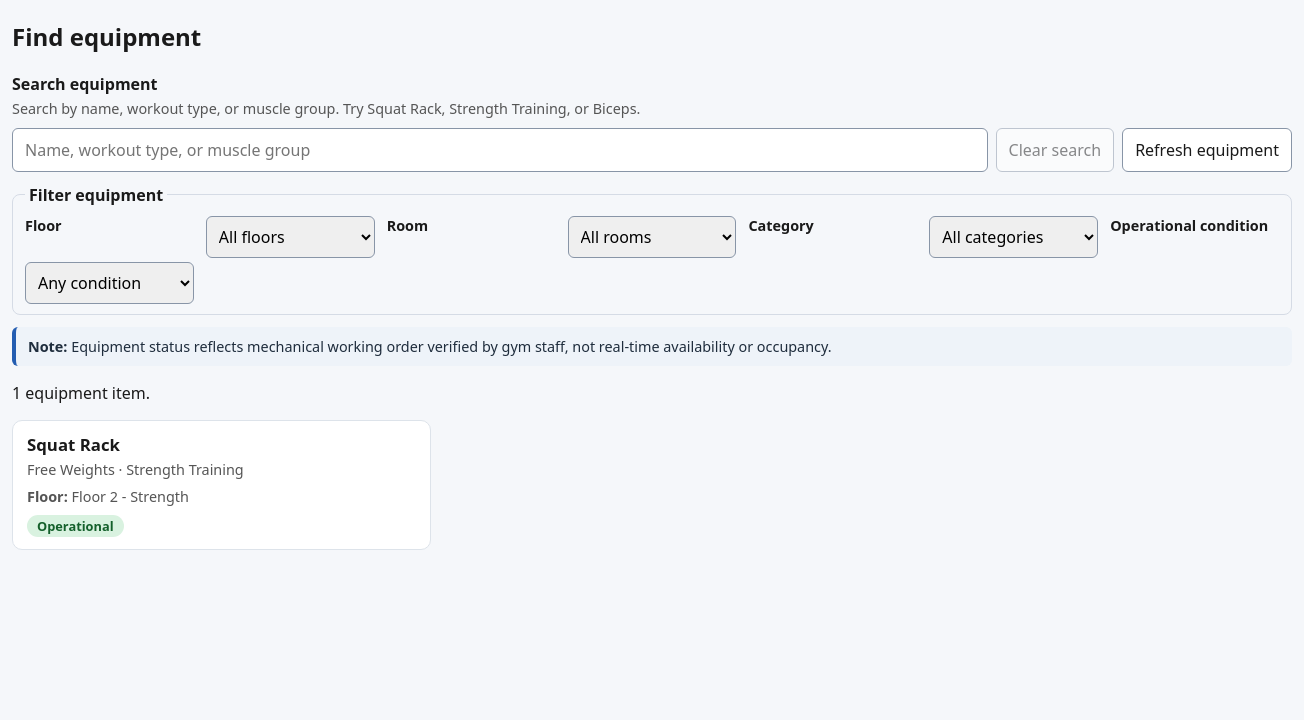
Scenario: US3: an empty filtered result explains how to recover
Check: the heading "Squat Rack" is shown, box [27,433,120,456]
Step 1. Select "Out of Order" in the dropdown labelled "Operational condition" → (109, 283), box [25,262,194,304]
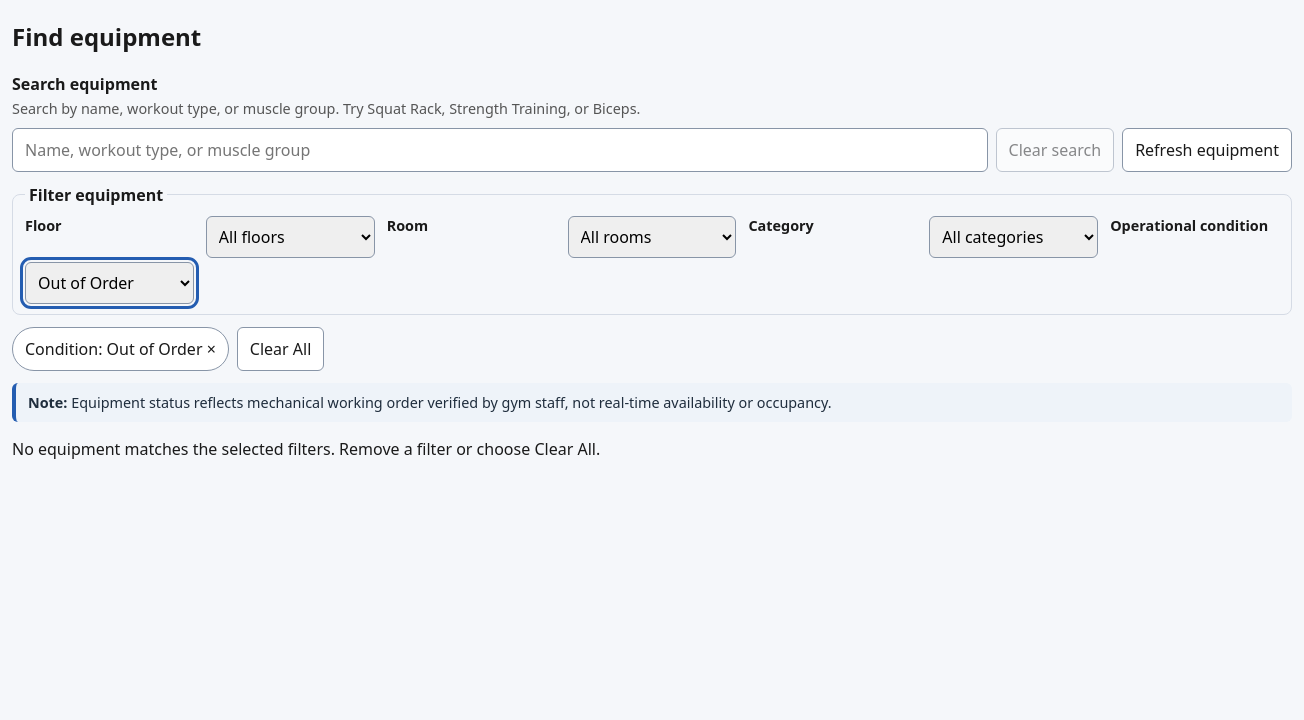
Check: the text "No equipment matches the selected filters" is shown, box [12,438,600,460]
